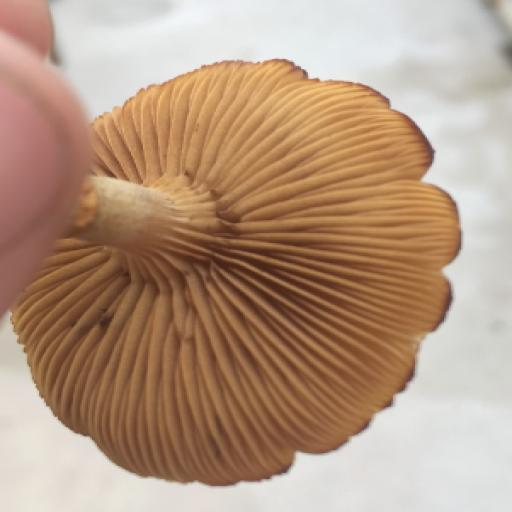mushroom: (12, 53, 469, 491)
